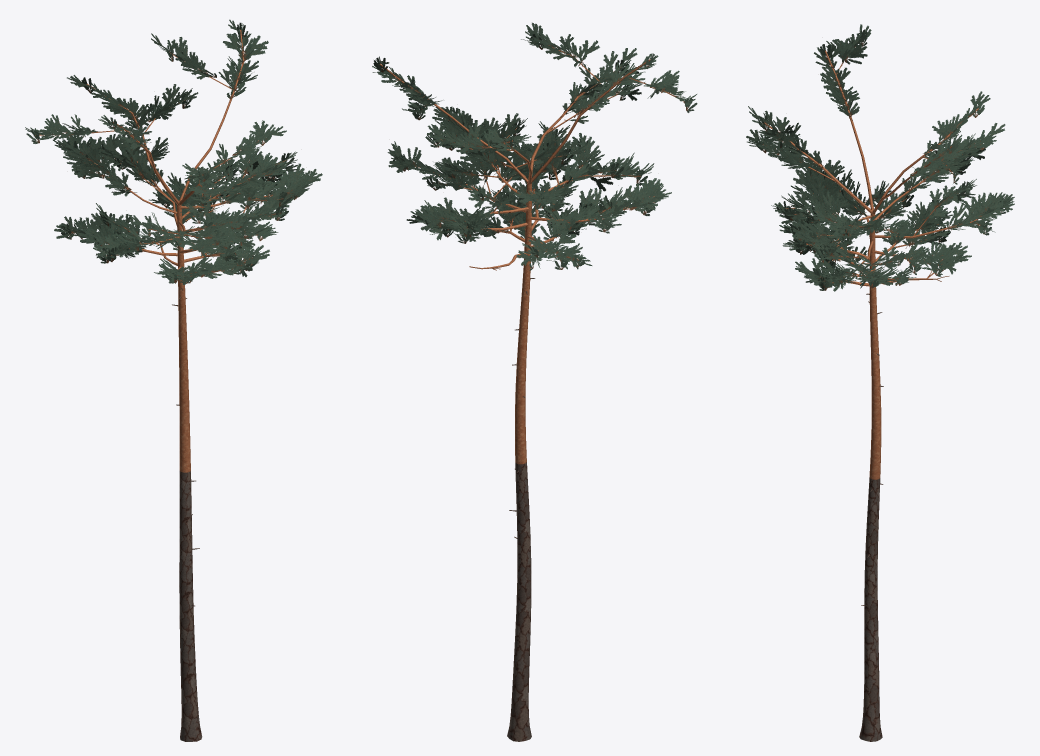
Rendered from pine_c_LOD0.glb.
3 renders of one model, left to right at view 1: azimuth 30°, elevation 25°; view 2: azimuth 150°, elevation 25°; view 3: azimuth 270°, elevation 25°, orthographic. The views are drawn at different scales.
Visible parts, largest first — view 1: Pine_C_LOD0_Foliage, Pine_C_LOD0_Bark; view 2: Pine_C_LOD0_Foliage, Pine_C_LOD0_Bark; view 3: Pine_C_LOD0_Foliage, Pine_C_LOD0_Bark.
Part boxes in pixels (<box>): Pine_C_LOD0_Foliage: <box>25,19,322,284</box>; Pine_C_LOD0_Bark: <box>35,29,290,741</box>; Pine_C_LOD0_Foliage: <box>372,22,697,270</box>; Pine_C_LOD0_Bark: <box>379,45,684,741</box>; Pine_C_LOD0_Foliage: <box>746,24,1014,291</box>; Pine_C_LOD0_Bark: <box>763,46,981,741</box>.
Size of the model in its own units: 10.68 by 22.47 by 9.02.
Materials: 2 (2 with a texture image).
